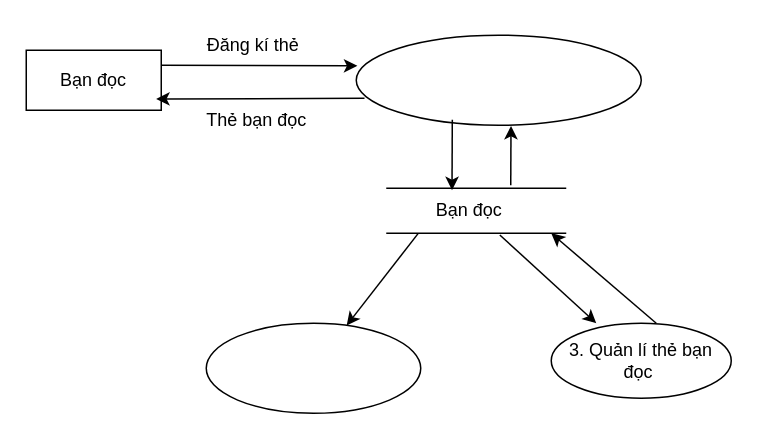
This 758x440 diagram has some shape labels left out. The box of each missing label's shape, as (x1, y1, x2, y2) in pixels:
1. Kiểm tra thông tin bạn đọc: (205, 322, 421, 413)
2. Đăng kí và cập nhật thông tin thẻ bạn đọc: (355, 34, 641, 125)
